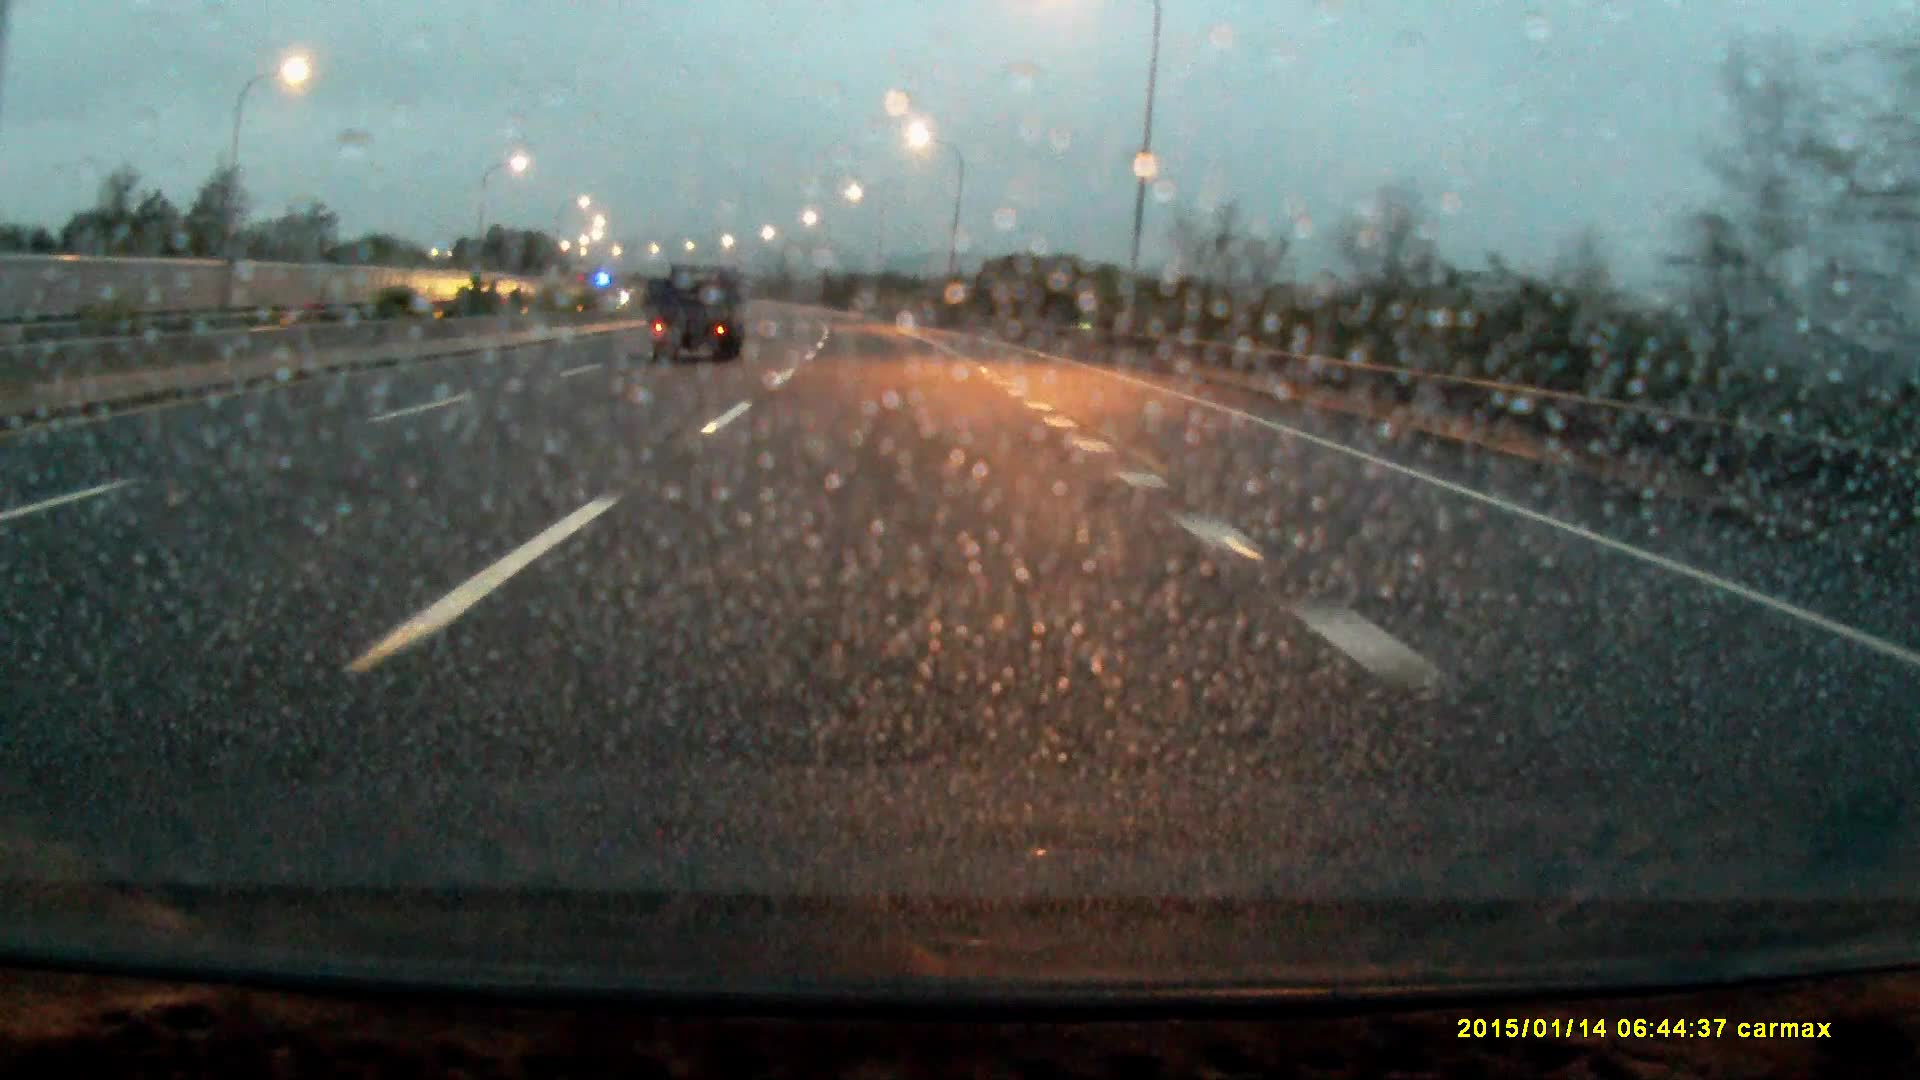vehicle: (649, 256, 749, 367)
